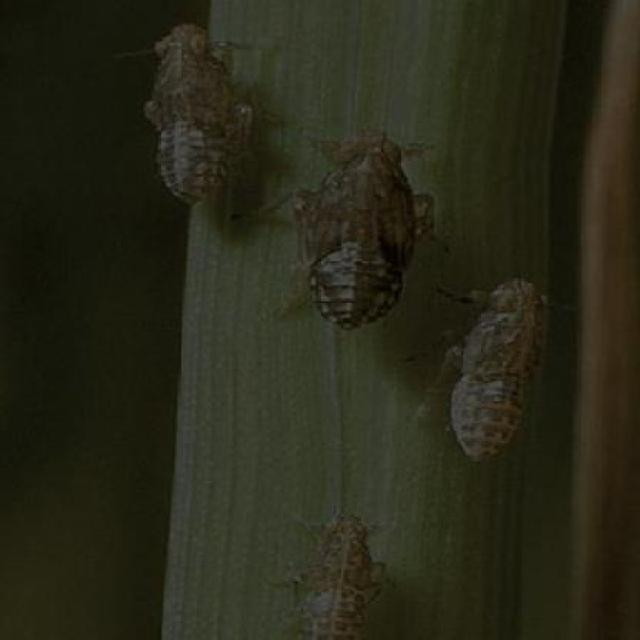brown-planthopper: (299, 127, 418, 330), (442, 277, 552, 468), (143, 22, 240, 200), (278, 509, 394, 640)
